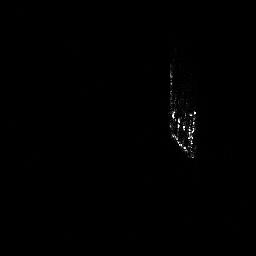ship: (166, 61, 197, 158)
